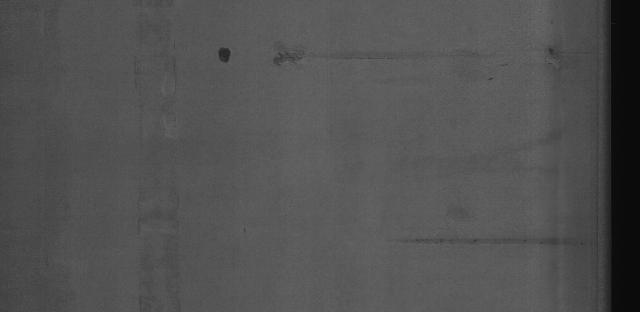oil_spot: (214, 45, 238, 67)
water_spot: (271, 45, 493, 68), (387, 230, 596, 253)
